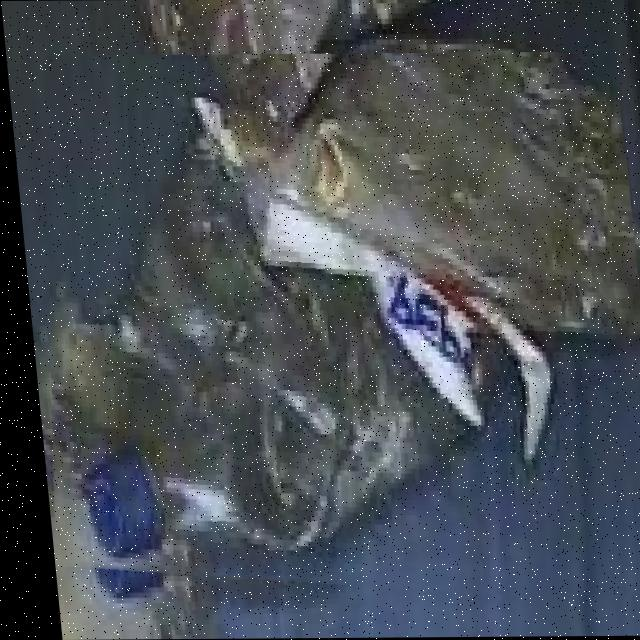litter: (4, 51, 640, 610)
